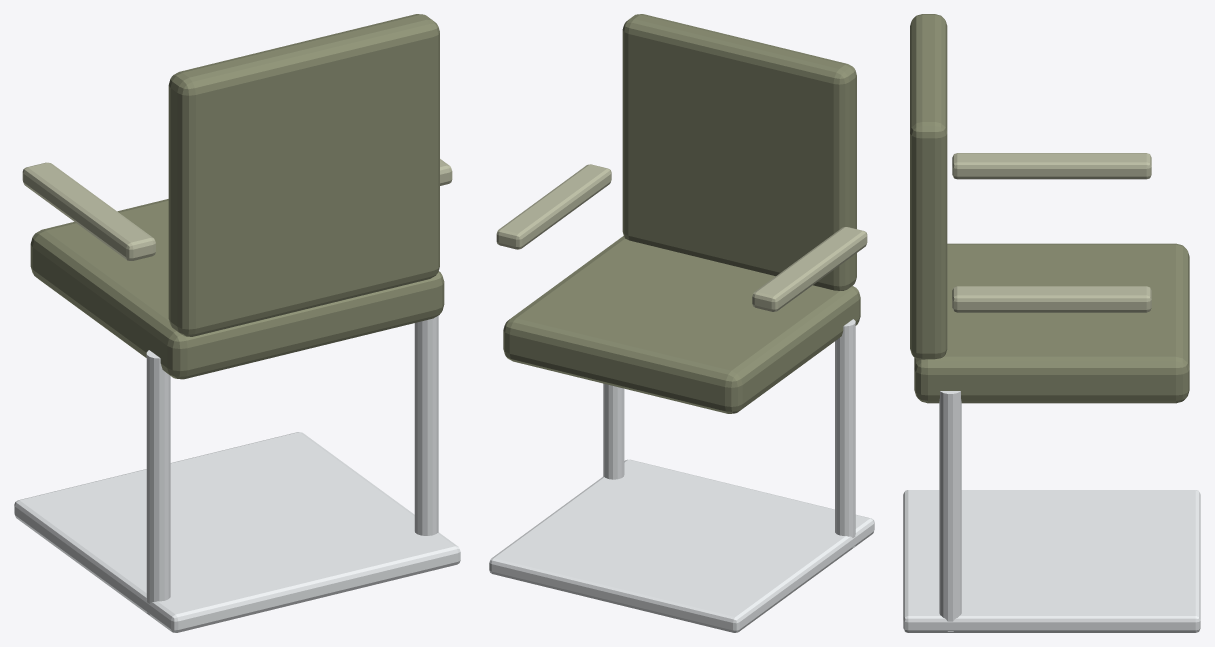
The model's file is office_lounge_seating_reference_board_32.glb.
3 views of the same model, side by side, from view 1: azimuth 30°, elevation 25°; view 2: azimuth 150°, elevation 25°; view 3: azimuth 270°, elevation 25° (orthographic). The views are drawn at different scales.
Visible parts, largest first — view 1: Cube; view 2: Cube; view 3: Cube.
Part boxes in pixels (x1,y1,x2,y2): Cube: (14, 14, 460, 632); Cube: (489, 14, 874, 632); Cube: (903, 14, 1200, 632).
Size of the model in its own units: 0.554 by 0.885 by 0.4756.
